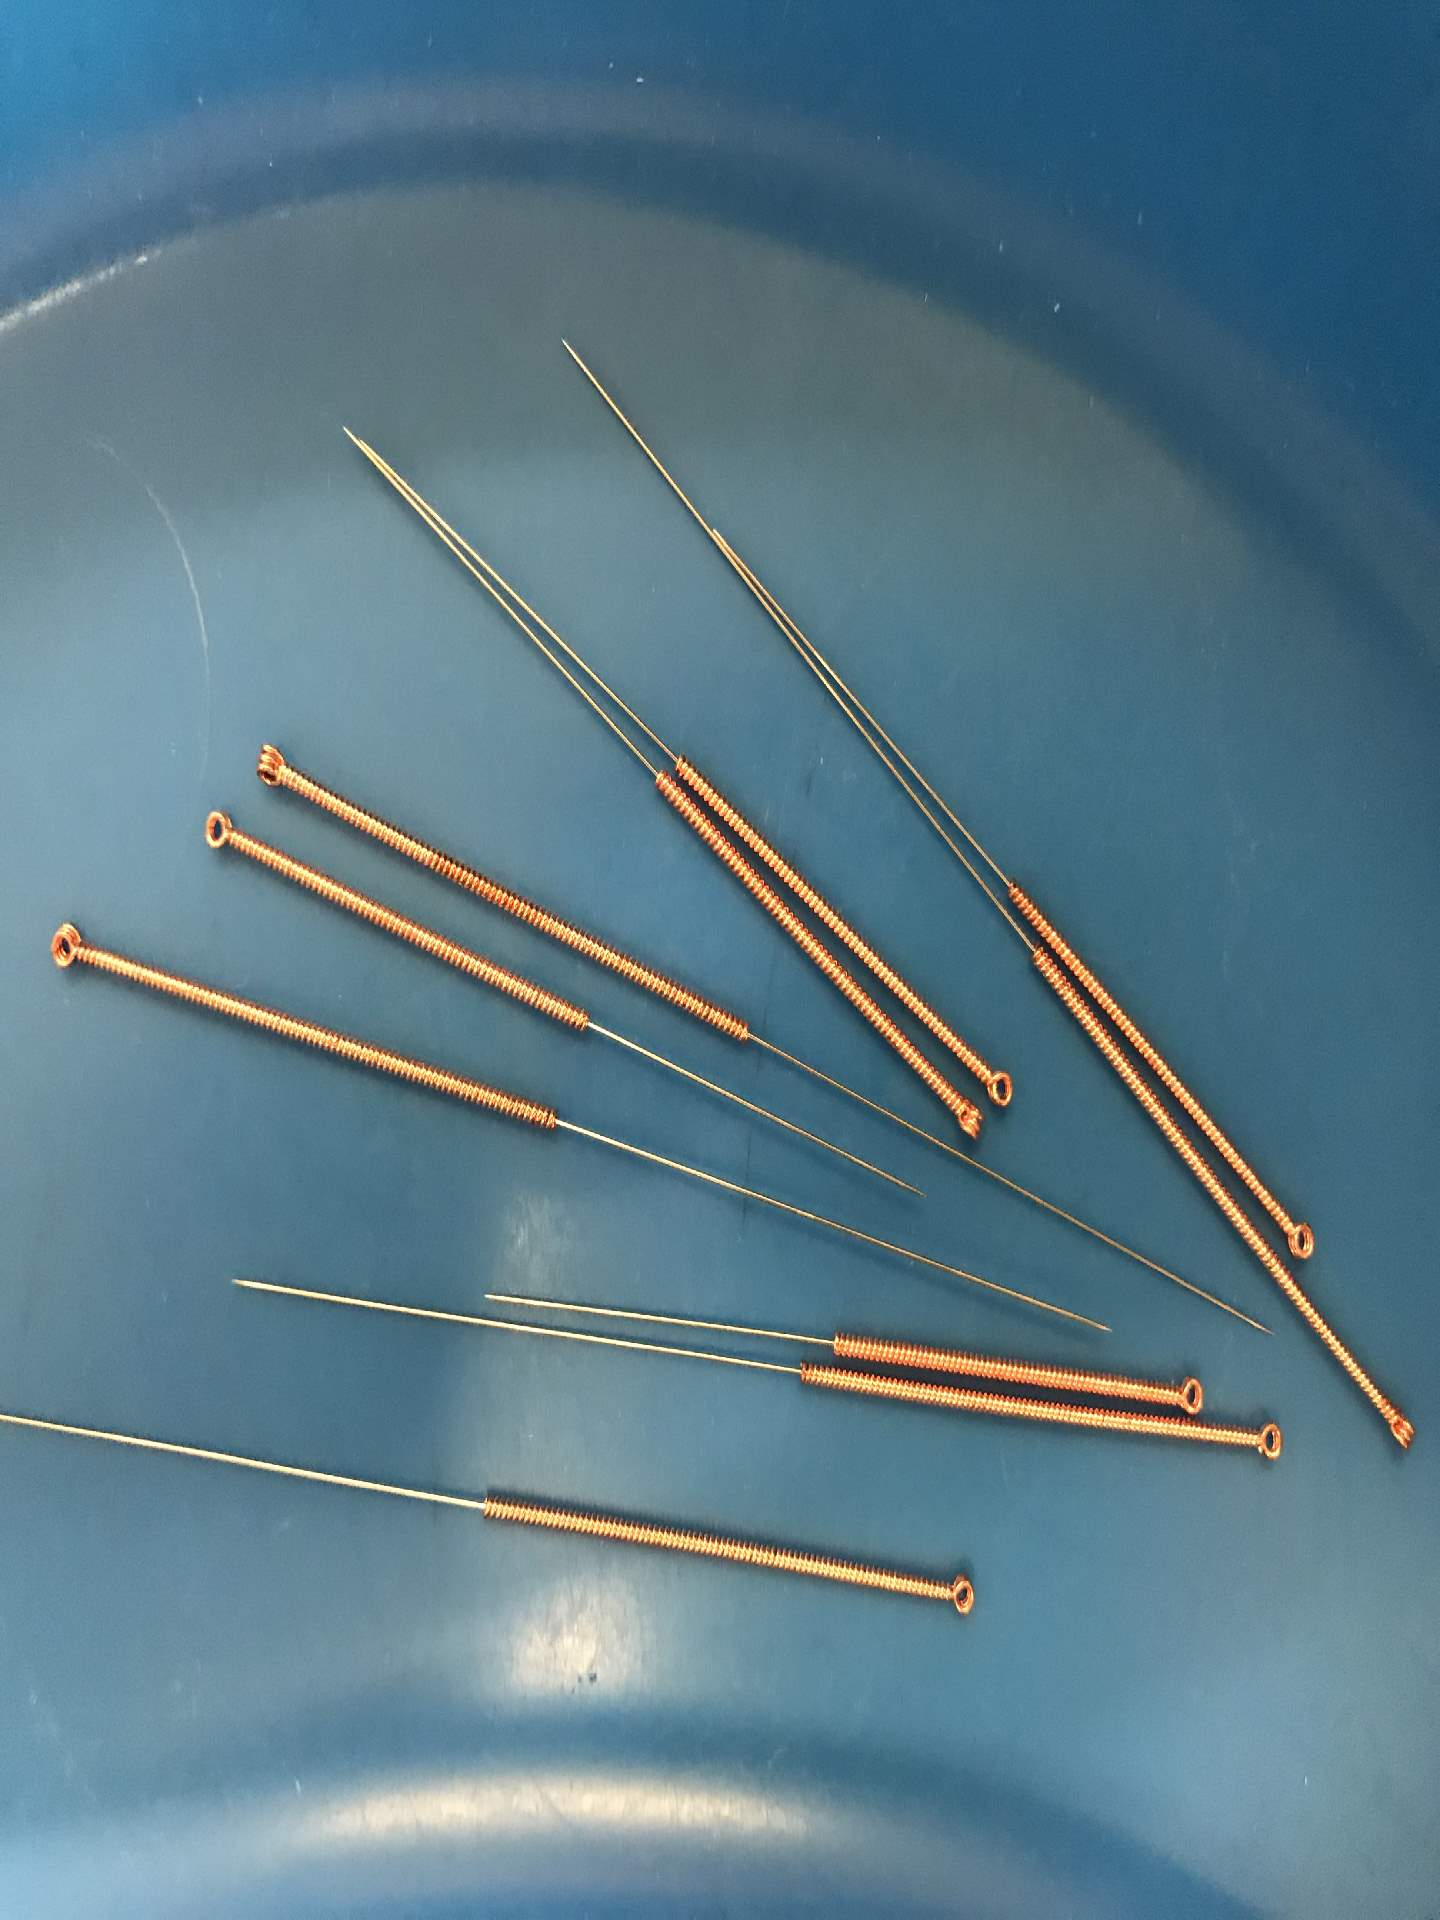needle: (30, 909, 97, 986), (237, 732, 303, 801), (1370, 1392, 1428, 1466), (188, 797, 248, 865), (1233, 1407, 1295, 1471), (929, 1562, 988, 1627), (930, 1084, 988, 1150), (1153, 1361, 1215, 1421), (1277, 1200, 1324, 1270), (974, 1054, 1023, 1114)
